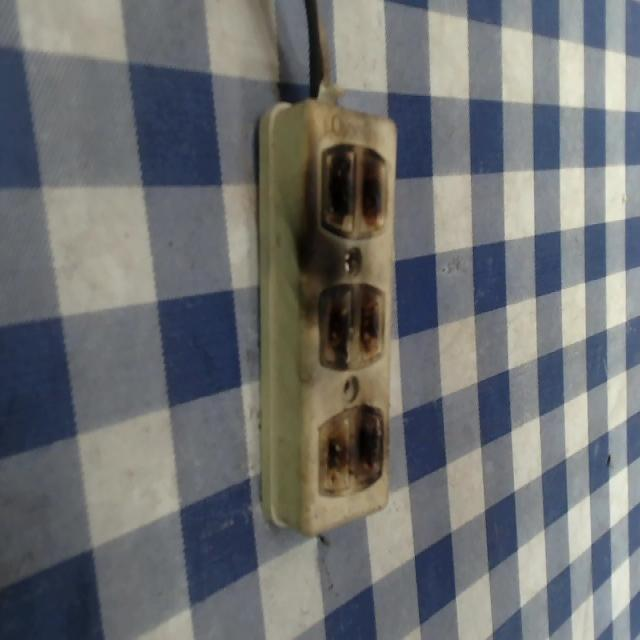-: (316, 139, 392, 240), (314, 277, 385, 373), (315, 403, 386, 493)
